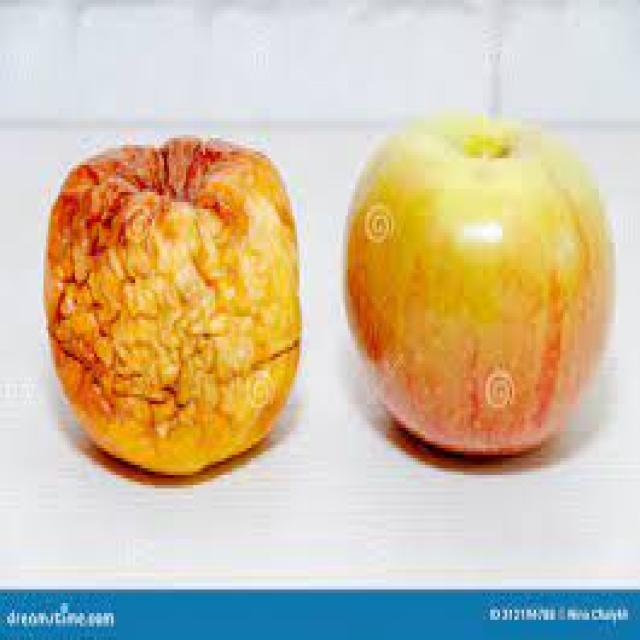Ripe: (340, 105, 622, 458)
overripe: (40, 129, 305, 479)
